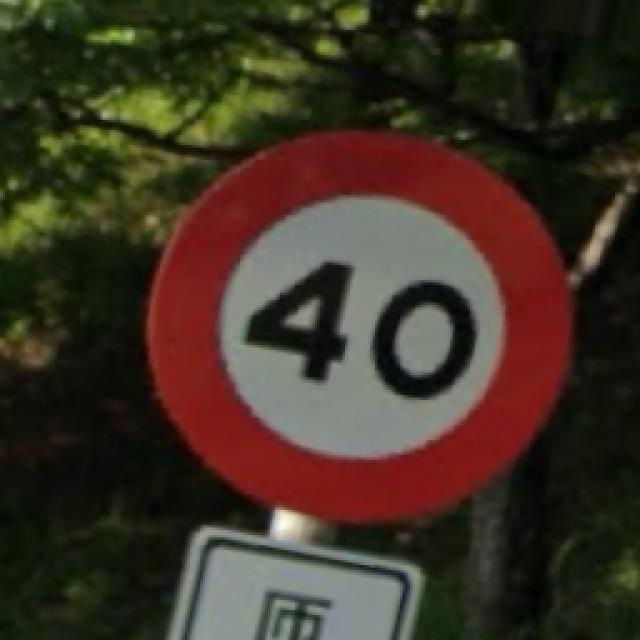Speed Limit -40-: (150, 132, 570, 520)
